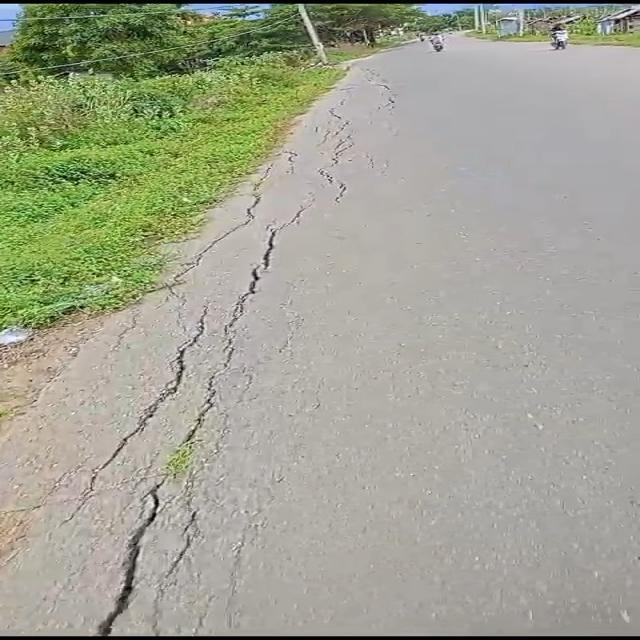Memanjang: (60, 206, 314, 639)
